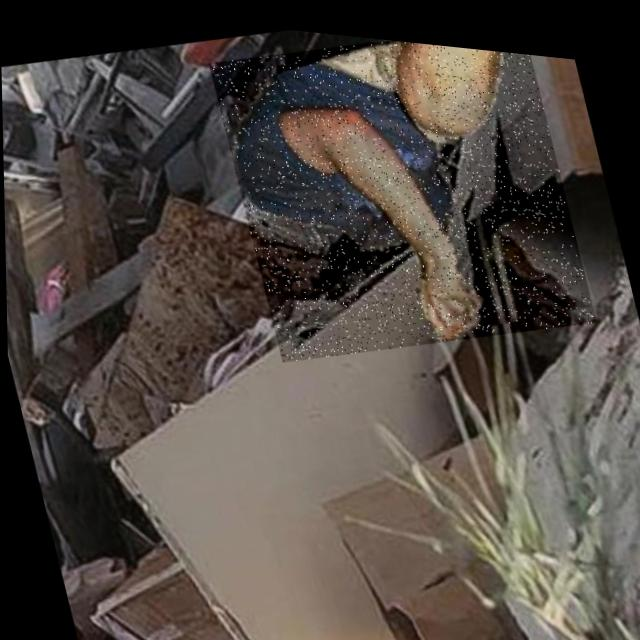Person in Rubble: (207, 17, 596, 380)
